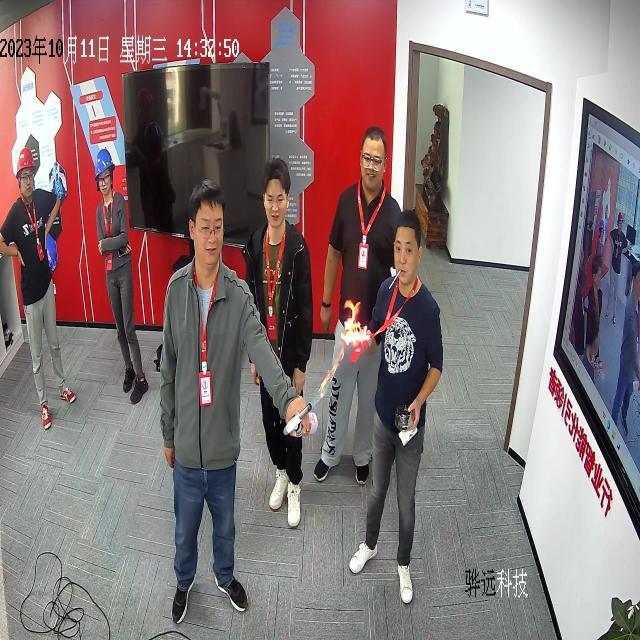Fire: (318, 298, 368, 402)
